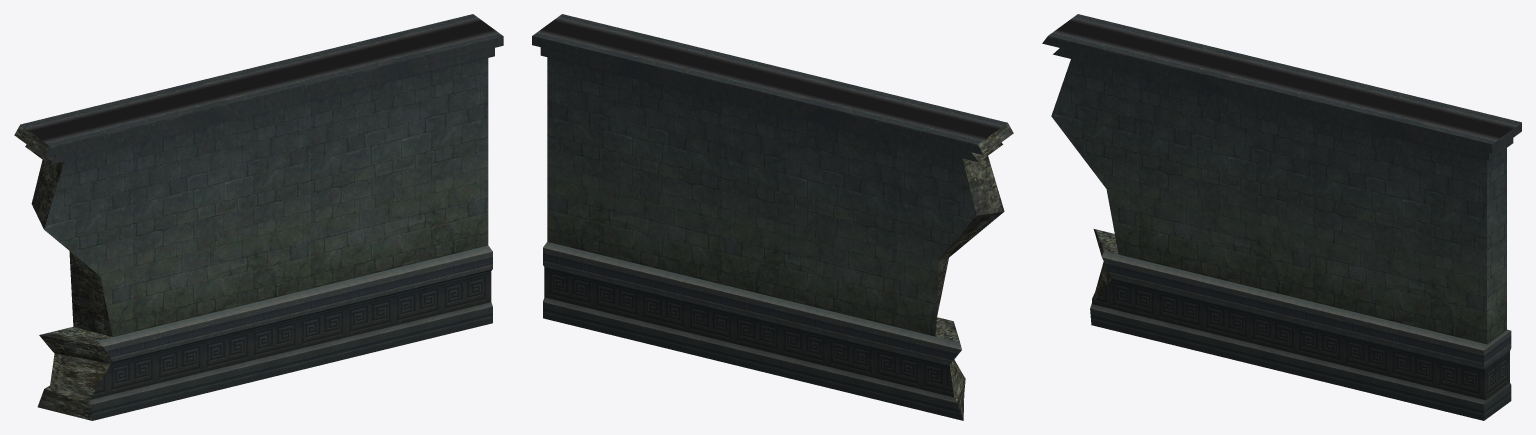
The model's file is environment_common_digongwall_002_a.FBX.
3 renders of one model, left to right at view 1: azimuth 30°, elevation 25°; view 2: azimuth 150°, elevation 25°; view 3: azimuth 330°, elevation 25°, orthographic. The views are drawn at different scales.
Visible parts, largest first — view 1: environment_common_digongwall_002_a, environment_common_digongwall_002_b, environment_common_digongwall_002_c; view 2: environment_common_digongwall_002_a, environment_common_digongwall_002_b, environment_common_digongwall_002_c; view 3: environment_common_digongwall_002_a, environment_common_digongwall_002_b, environment_common_digongwall_002_c.
Boxes of the visible parts, x1=… form: environment_common_digongwall_002_a: x1=44, y1=58, x2=488, y2=336; environment_common_digongwall_002_b: x1=47, y1=245, x2=492, y2=420; environment_common_digongwall_002_c: x1=14, y1=14, x2=503, y2=420; environment_common_digongwall_002_a: x1=547, y1=57, x2=976, y2=336; environment_common_digongwall_002_b: x1=543, y1=242, x2=963, y2=420; environment_common_digongwall_002_c: x1=532, y1=14, x2=1013, y2=420; environment_common_digongwall_002_a: x1=1051, y1=59, x2=1506, y2=344; environment_common_digongwall_002_b: x1=1090, y1=229, x2=1511, y2=420; environment_common_digongwall_002_c: x1=1042, y1=14, x2=1521, y2=303.
Bounding box in the file's own units: 645 × 383 × 74.35.
